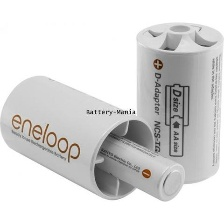battery: (50, 103, 188, 205)
